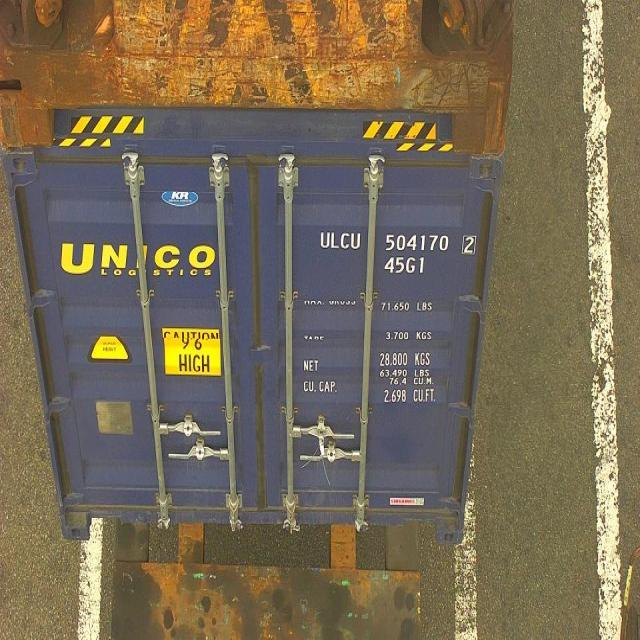ISO: (384, 256, 427, 276)
container_number: (318, 230, 476, 252)
